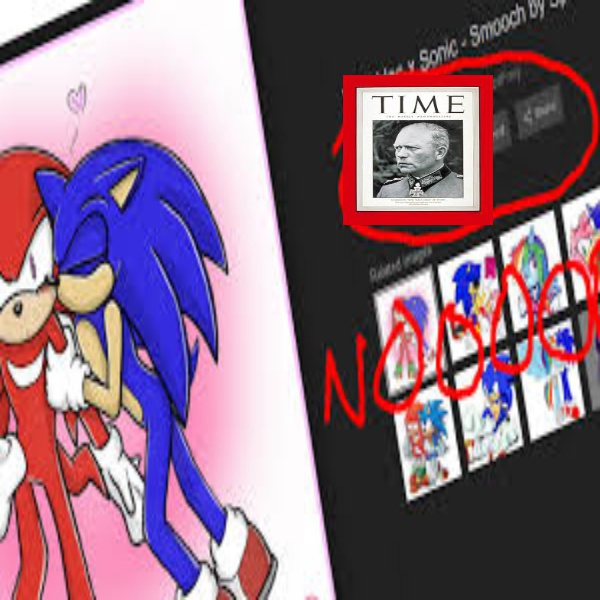time_cover: (340, 71, 495, 230)
